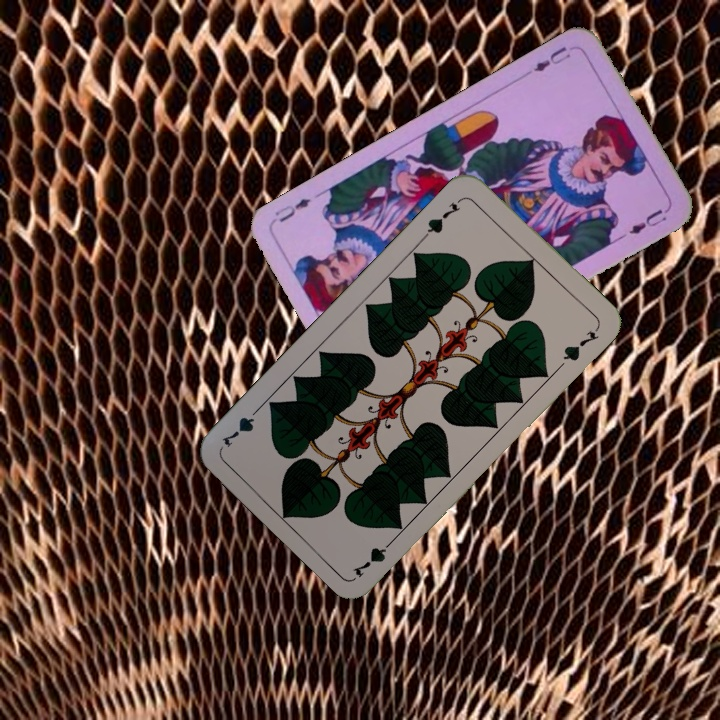EU: (529, 42, 573, 75)
G7: (349, 533, 399, 580), (420, 194, 466, 240)
